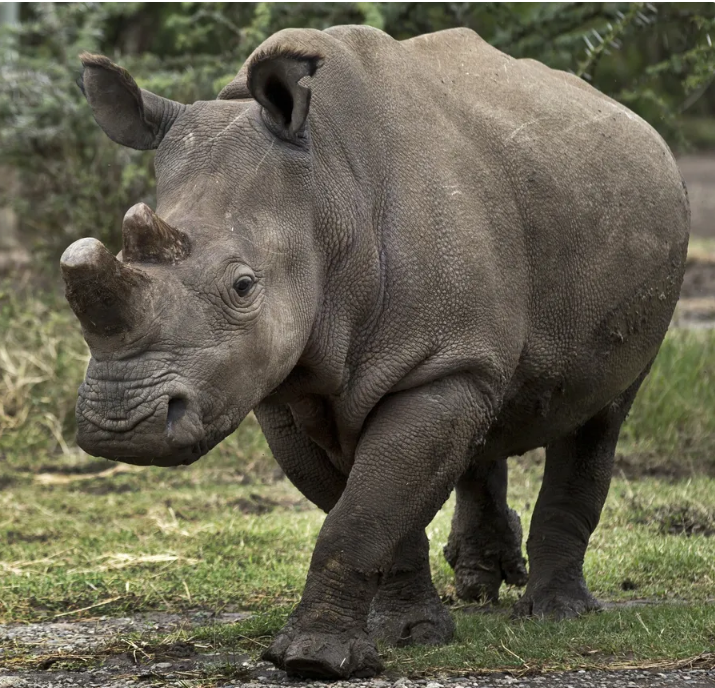rhinoceros: (48, 28, 673, 680)
